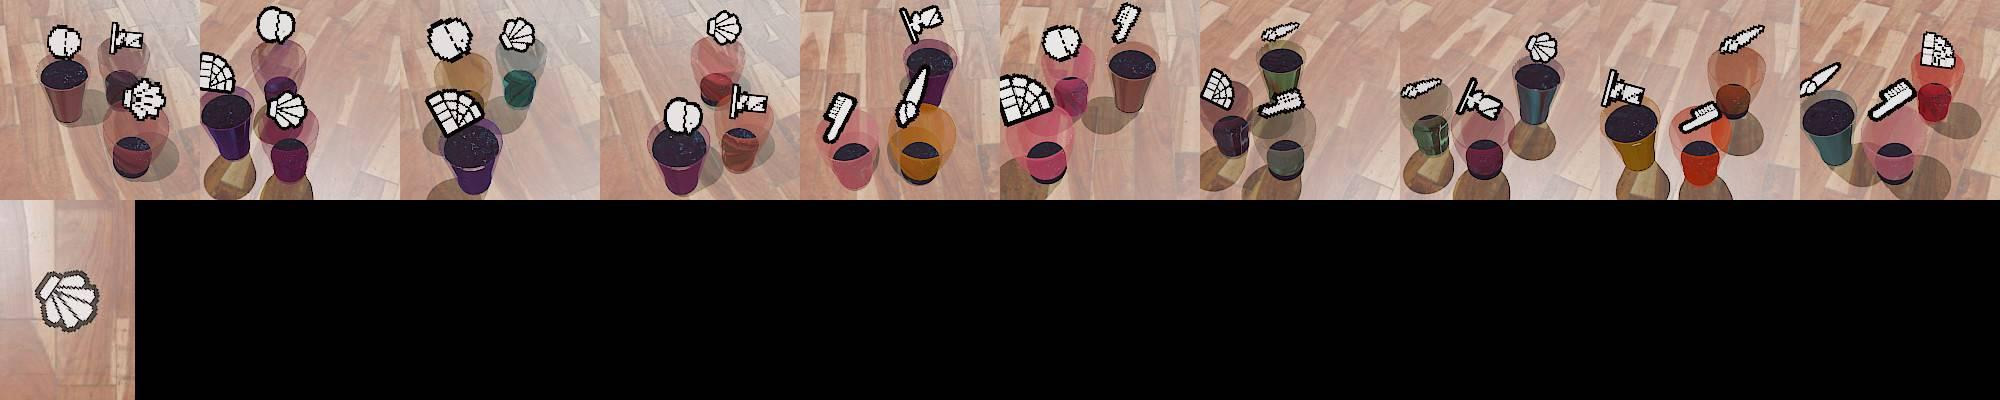icon: (33, 269, 101, 332), (992, 71, 1054, 127), (425, 88, 486, 138), (1454, 75, 1503, 122), (894, 65, 930, 127), (426, 17, 473, 62), (1867, 76, 1916, 121), (821, 90, 860, 144), (122, 76, 167, 121), (1602, 68, 1648, 110), (898, 4, 944, 45), (265, 88, 310, 129), (199, 50, 237, 96), (662, 96, 704, 136), (1798, 60, 1842, 99), (255, 5, 296, 46), (1718, 23, 1765, 56), (1040, 24, 1082, 61), (1202, 68, 1236, 111), (1677, 99, 1721, 134), (499, 15, 537, 54), (728, 83, 768, 120), (1108, 1, 1142, 45), (1920, 31, 1957, 69), (1258, 88, 1305, 117), (705, 10, 741, 47), (47, 25, 83, 60), (110, 22, 145, 55), (1524, 32, 1560, 64), (1401, 76, 1444, 99), (1263, 20, 1300, 43)
